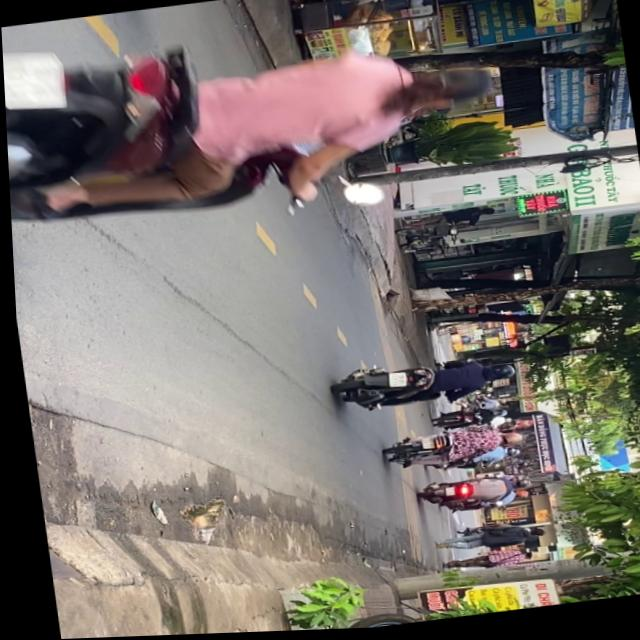helmet: (481, 366, 511, 384)
licenseplate: (0, 0, 512, 245), (325, 350, 515, 418)
motorcyclist: (400, 63, 496, 118)
nohelmet: (2, 45, 66, 113), (383, 373, 402, 390)
